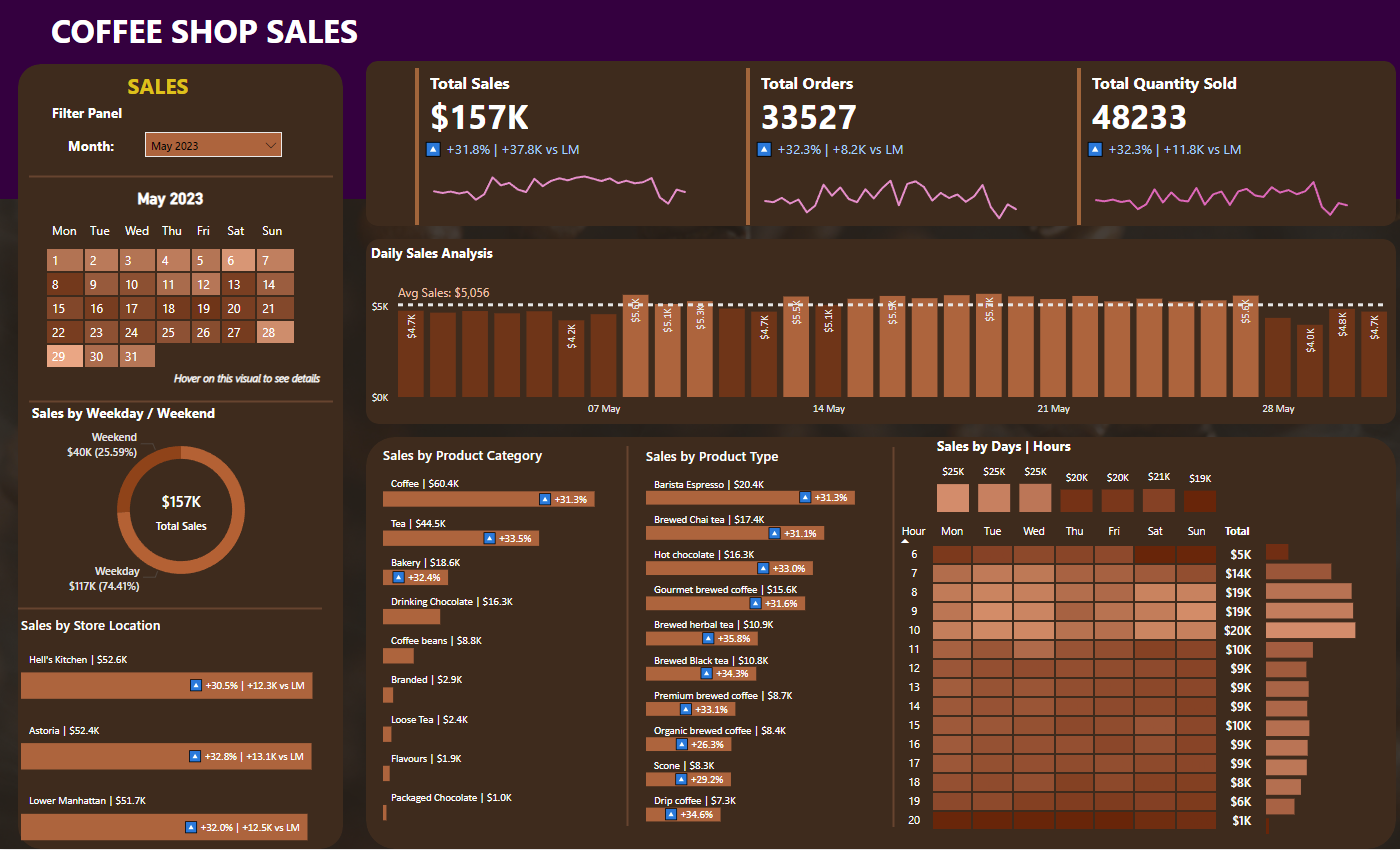

The page's visual inventory and layout, read from the dashboard file:
{"tool":"powerbi","page":{"name":"Page 1","canvas":[1400,850],"ordinal":0},"visuals":[{"type":"shape","box":[0,0,1400,200],"z":0},{"type":"cardVisual","fields":{"Data":["Transactions.Total Sales"]},"box":[400,65.1,300,165.1],"z":0,"group":"g1"},{"type":"cardVisual","fields":{"Data":["Transactions.Total Orders"]},"box":[731.1,65.1,300,165.1],"z":0,"group":"g2"},{"type":"cardVisual","fields":{"Data":["Transactions.Total Quantity Sold"]},"box":[1062.3,65.1,300,165.1],"z":0,"group":"g3"},{"type":"shape","box":[17.9,65.1,325.5,784.9],"z":1000},{"type":"lineChart","fields":{"Category":["Date Table.Date.Variation.Date Hierarchy.Year","Date Table.Date.Variation.Date Hierarchy.Quarter","Date Table.Date.Variation.Date Hierarchy.Month","Date Table.Date.Variation.Date Hierarchy.Day"],"Y":["Transactions.Total Sales"]},"box":[418.9,141.5,281.1,84.9],"z":1000,"group":"g1"},{"type":"lineChart","fields":{"Category":["Date Table.Date.Variation.Date Hierarchy.Year","Date Table.Date.Variation.Date Hierarchy.Quarter","Date Table.Date.Variation.Date Hierarchy.Month","Date Table.Date.Variation.Date Hierarchy.Day"],"Y":["Transactions.Total Orders"]},"box":[750,141.5,281.1,84.9],"z":1000,"group":"g2"},{"type":"lineChart","fields":{"Category":["Date Table.Date.Variation.Date Hierarchy.Year","Date Table.Date.Variation.Date Hierarchy.Quarter","Date Table.Date.Variation.Date Hierarchy.Month","Date Table.Date.Variation.Date Hierarchy.Day"],"Y":["Transactions.Total Quantity Sold"]},"box":[1081.2,141.5,281.1,84.9],"z":1000,"group":"g3"},{"type":"shape","box":[366,62,1030,165],"z":2000},{"type":"textbox","box":[46.2,3.8,325.5,57.5],"z":3000},{"type":"slicer","fields":{"Values":["Date Table.Month Year"]},"box":[140,127.8,146.7,32.2],"z":4000},{"type":"group","id":"g1","title":"Group 1","box":[400,65.1,300,165.1],"z":5000},{"type":"group","id":"g2","title":"Group 1","box":[731.1,65.1,300,165.1],"z":6000},{"type":"group","id":"g3","title":"Group 1","box":[1062.3,65.1,300,165.1],"z":7000},{"type":"pivotTable","fields":{"Rows":["Date Table.Week Num"],"Columns":["Date Table.Day Name"],"Values":["Min(Date Table.DATE Nu)"]},"box":[17.9,215.1,305,190],"z":8000},{"type":"card","fields":{"Values":["Min(Date Table.Month Year)"]},"box":[122.6,185.8,95.3,29.2],"z":9000},{"type":"card","fields":{"Values":["Transactions.FOOT NOTE"]},"box":[162.3,367.9,169.8,27.4],"z":10000},{"type":"shape","box":[29,380,304,45],"z":11000},{"type":"shape","box":[29,155,304,45],"z":12000},{"type":"donutChart","title":"Sales by Weekday / Weekend","fields":{"Category":["Date Table.Weekday/Weekend"],"Y":["Transactions.Total Sales"]},"box":[27,405,308,195],"z":13000},{"type":"card","fields":{"Values":["Transactions.Total Sales"]},"box":[130,484,102,56],"z":14000},{"type":"shape","box":[18,587,304,45],"z":15000},{"type":"clusteredBarChart","title":"Sales by Store Location","fields":{"Category":["Transactions.store_location"],"Y":["Transactions.Placeholder","Transactions.Total Sales"]},"box":[16,617,327,233],"z":16000},{"type":"shape","box":[366,240,1030,185],"z":17000},{"type":"shape","box":[366,438,1030,412],"z":18000},{"type":"columnChart","title":"Daily Sales Analysis","fields":{"Category":["Transactions.transaction_date"],"Y":["Transactions.Total Sales"]},"box":[366,245,1030,180],"z":19000},{"type":"clusteredBarChart","title":"Sales by Product Category","fields":{"Y":["Transactions.Placeholder","Transactions.Total Sales"],"Category":["Transactions.product_category"]},"box":[378,447,250,380],"z":20000},{"type":"shape","box":[609,447,37,380],"z":21000},{"type":"clusteredBarChart","title":"Sales by Product Type","fields":{"Y":["Transactions.Placeholder","Transactions.Total Sales"],"Category":["Transactions.product_type"]},"box":[641,448,250,380],"z":22000},{"type":"shape","box":[875,448,37,380],"z":23000},{"type":"pivotTable","fields":{"Rows":["Transactions.Hour"],"Columns":["Date Table.Day Name"],"Values":["Transactions.Total Sales"]},"box":[891,519,370,321],"z":24000},{"type":"barChart","fields":{"Category":["Transactions.Hour"],"Y":["Transactions.Total Sales"]},"box":[1260.8,532.3,101.5,307.7],"z":25000},{"type":"columnChart","title":"Sales by Days | Hours","fields":{"Y":["Transactions.Total Sales"],"Category":["Date Table.Day Name"]},"box":[932.3,437.7,289.2,81.5],"z":26000},{"type":"textbox","box":[63.3,133.3,76.7,27.8],"z":27000},{"type":"textbox","box":[46.7,100,145.6,33.3],"z":28000},{"type":"textbox","box":[63.3,66.7,190,61.1],"z":29000}]}

Visuals, with their boxes in screenshot pixels (x1, y1, x2, y2), scaled from the page's 1400x850 canvas onto the 1400x850 screenshot:
shape: x1=0, y1=0, x2=1399, y2=200
cardVisual - Transactions.Total Sales: x1=400, y1=65, x2=700, y2=230
cardVisual - Transactions.Total Orders: x1=731, y1=65, x2=1031, y2=230
cardVisual - Transactions.Total Quantity Sold: x1=1062, y1=65, x2=1362, y2=230
shape: x1=18, y1=65, x2=343, y2=849
lineChart - Date Table.Date.Variation.Date Hierarchy.Year x Date Table.Date.Variation.Date Hierarchy.Quarter: x1=419, y1=142, x2=700, y2=226
lineChart - Date Table.Date.Variation.Date Hierarchy.Year x Date Table.Date.Variation.Date Hierarchy.Quarter: x1=750, y1=142, x2=1031, y2=226
lineChart - Date Table.Date.Variation.Date Hierarchy.Year x Date Table.Date.Variation.Date Hierarchy.Quarter: x1=1081, y1=142, x2=1362, y2=226
shape: x1=366, y1=62, x2=1396, y2=227
textbox: x1=46, y1=4, x2=372, y2=61
slicer - Date Table.Month Year: x1=140, y1=128, x2=287, y2=160
"Group 1" group: x1=400, y1=65, x2=700, y2=230
"Group 1" group: x1=731, y1=65, x2=1031, y2=230
"Group 1" group: x1=1062, y1=65, x2=1362, y2=230
pivotTable - Date Table.Week Num x Date Table.Day Name: x1=18, y1=215, x2=323, y2=405
card - Min(Date Table.Month Year): x1=123, y1=186, x2=218, y2=215
card - Transactions.FOOT NOTE: x1=162, y1=368, x2=332, y2=395
shape: x1=29, y1=380, x2=333, y2=425
shape: x1=29, y1=155, x2=333, y2=200
"Sales by Weekday / Weekend" donutChart: x1=27, y1=405, x2=335, y2=600
card - Transactions.Total Sales: x1=130, y1=484, x2=232, y2=540
shape: x1=18, y1=587, x2=322, y2=632
"Sales by Store Location" clusteredBarChart: x1=16, y1=617, x2=343, y2=849
shape: x1=366, y1=240, x2=1396, y2=425
shape: x1=366, y1=438, x2=1396, y2=849
"Daily Sales Analysis" columnChart: x1=366, y1=245, x2=1396, y2=425
"Sales by Product Category" clusteredBarChart: x1=378, y1=447, x2=628, y2=827
shape: x1=609, y1=447, x2=646, y2=827
"Sales by Product Type" clusteredBarChart: x1=641, y1=448, x2=891, y2=828
shape: x1=875, y1=448, x2=912, y2=828
pivotTable - Transactions.Hour x Date Table.Day Name: x1=891, y1=519, x2=1261, y2=840
barChart - Transactions.Hour x Transactions.Total Sales: x1=1261, y1=532, x2=1362, y2=840
"Sales by Days | Hours" columnChart: x1=932, y1=438, x2=1222, y2=519
textbox: x1=63, y1=133, x2=140, y2=161
textbox: x1=47, y1=100, x2=192, y2=133
textbox: x1=63, y1=67, x2=253, y2=128
